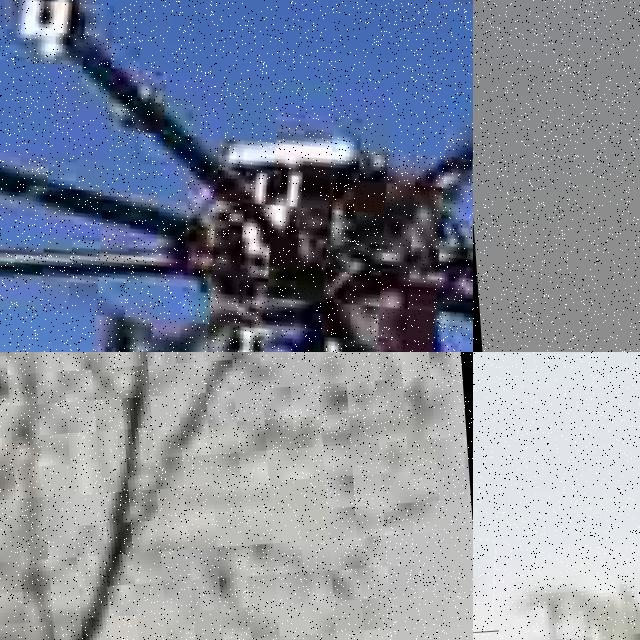drone: (0, 0, 473, 352), (473, 531, 498, 638)
